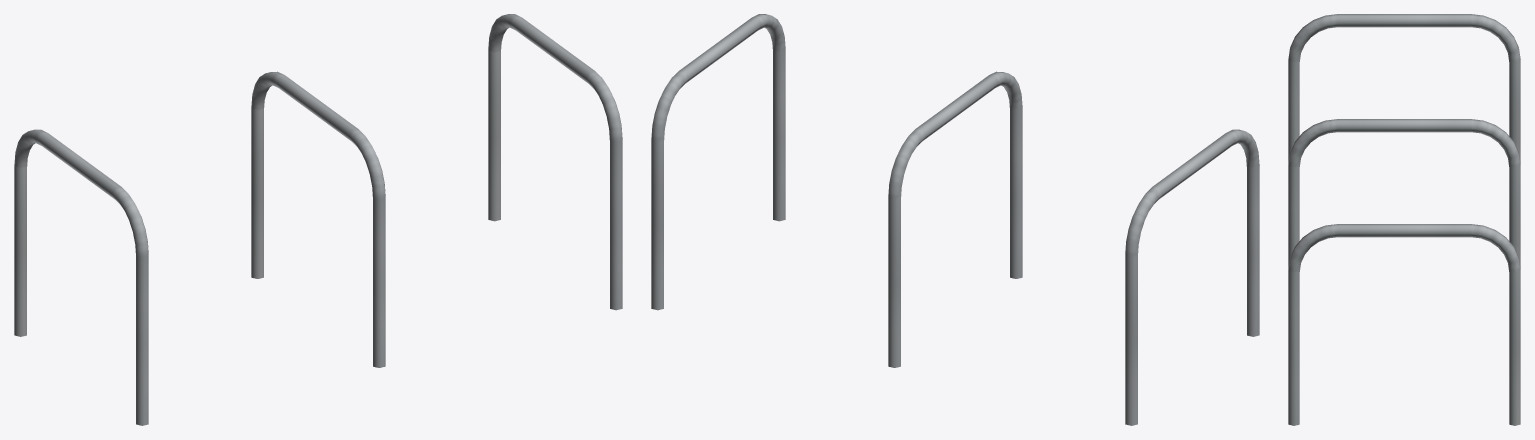
Rendered from arceaux_velo_lod1.glb.
3 views of the same model, side by side, from view 1: azimuth 30°, elevation 25°; view 2: azimuth 150°, elevation 25°; view 3: azimuth 270°, elevation 25° (orthographic). The views are drawn at different scales.
Visible parts, largest first — view 1: arceaux_velo; view 2: arceaux_velo; view 3: arceaux_velo.
Part boxes in pixels (x1,y1,x2,y2): arceaux_velo: [14, 14, 622, 425]; arceaux_velo: [651, 14, 1259, 425]; arceaux_velo: [1288, 14, 1520, 425].
Size of the model in its own units: 1.85 by 0.7908 by 0.8415.
1 material, 1 textured.
